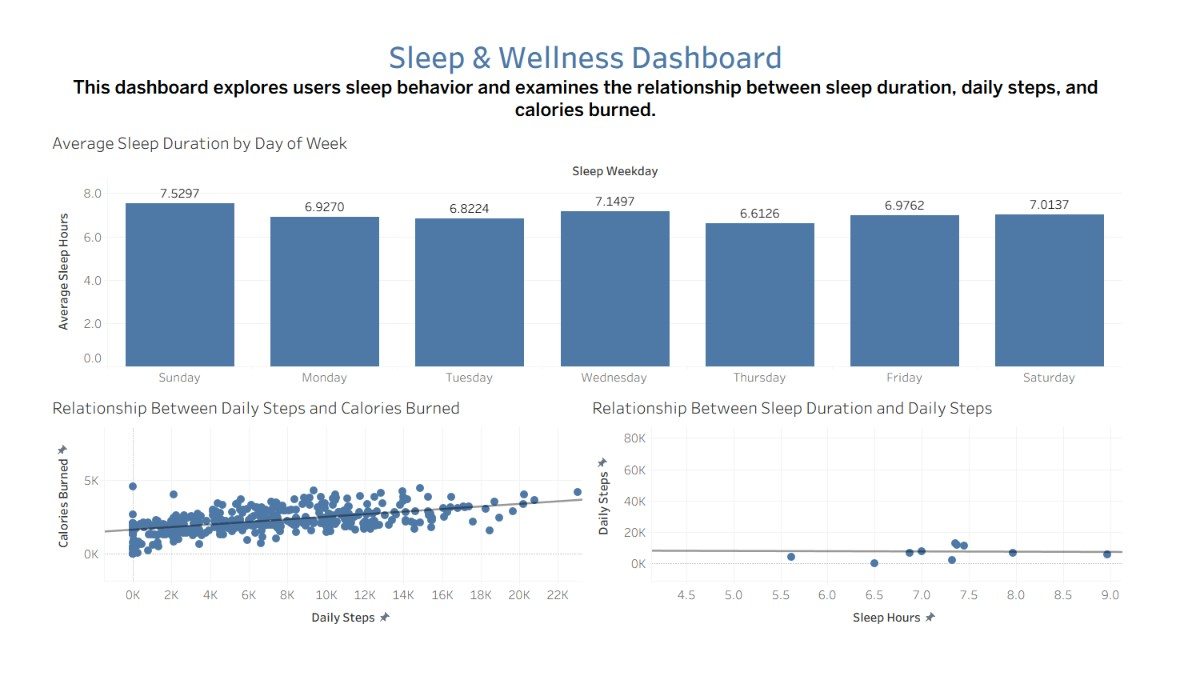

This screenshot's page, from the dashboard's own definition file:
{"tool":"tableau","page":{"name":"Sleep & Wellness Dashboard","canvas":[1366,768],"ordinal":1},"visuals":[{"type":"title","box":[8,8,1350,115]},{"type":"worksheet","title":"Sleep Duration Analysis","mark":"Bar","rows":["Calculation_1261993731887109"],"cols":["Calculation_1261993749839881"],"box":[8,123,1350,331.2]},{"type":"worksheet","title":"Steps vs Calories ","mark":"Circle","rows":["Calories"],"cols":["TotalSteps"],"box":[8,454.2,675,305.8]},{"type":"worksheet","title":"Sleep vs Steps","mark":"Circle","rows":["TotalSteps"],"cols":["Calculation_1261993731887109"],"box":[683,454.2,675,305.8]}]}

Visuals, with their boxes in screenshot pixels (x1, y1, x2, y2), scaled from the page's 1366x768 canvas onto the 1185x678 screenshot:
title: bbox(7, 7, 1178, 109)
"Sleep Duration Analysis" worksheet (Bar marks): bbox(7, 109, 1178, 401)
"Steps vs Calories " worksheet (Circle marks): bbox(7, 401, 592, 671)
"Sleep vs Steps" worksheet (Circle marks): bbox(592, 401, 1178, 671)
